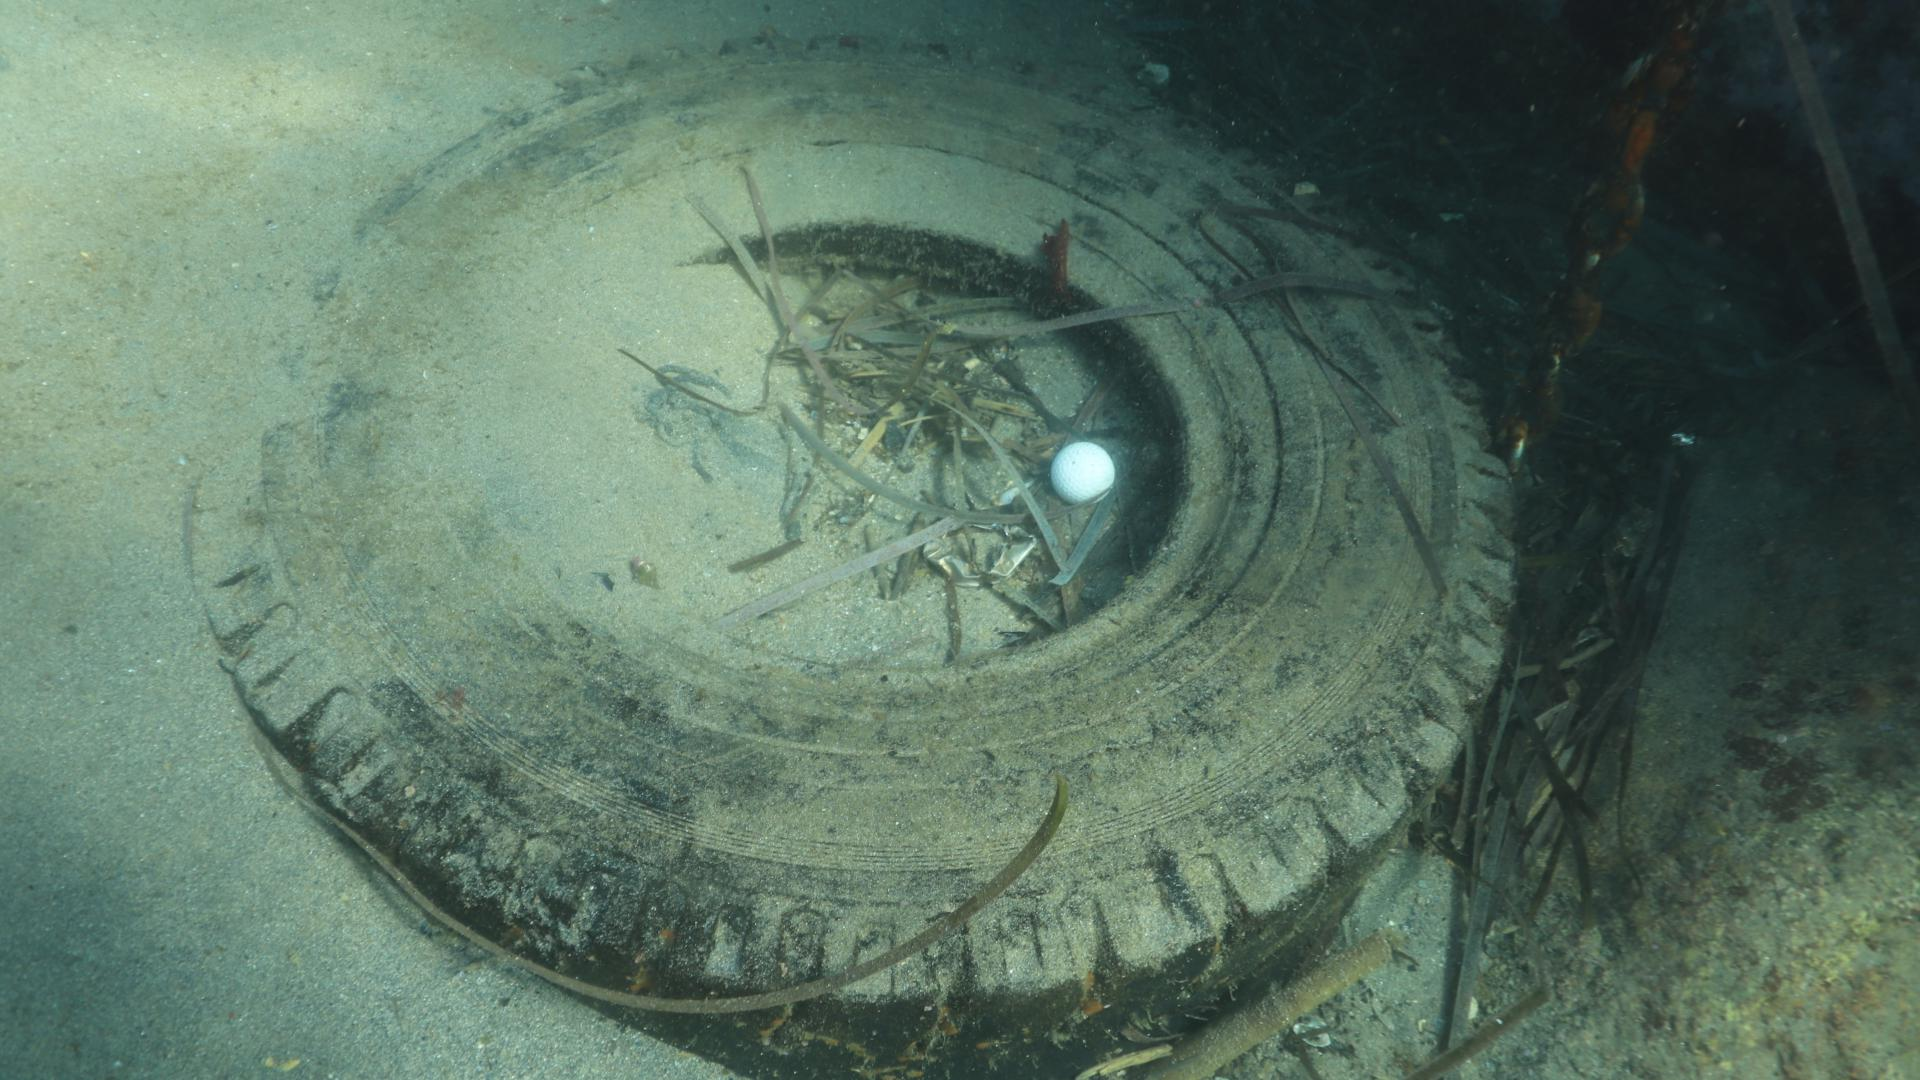tire: (185, 30, 1513, 1080)
